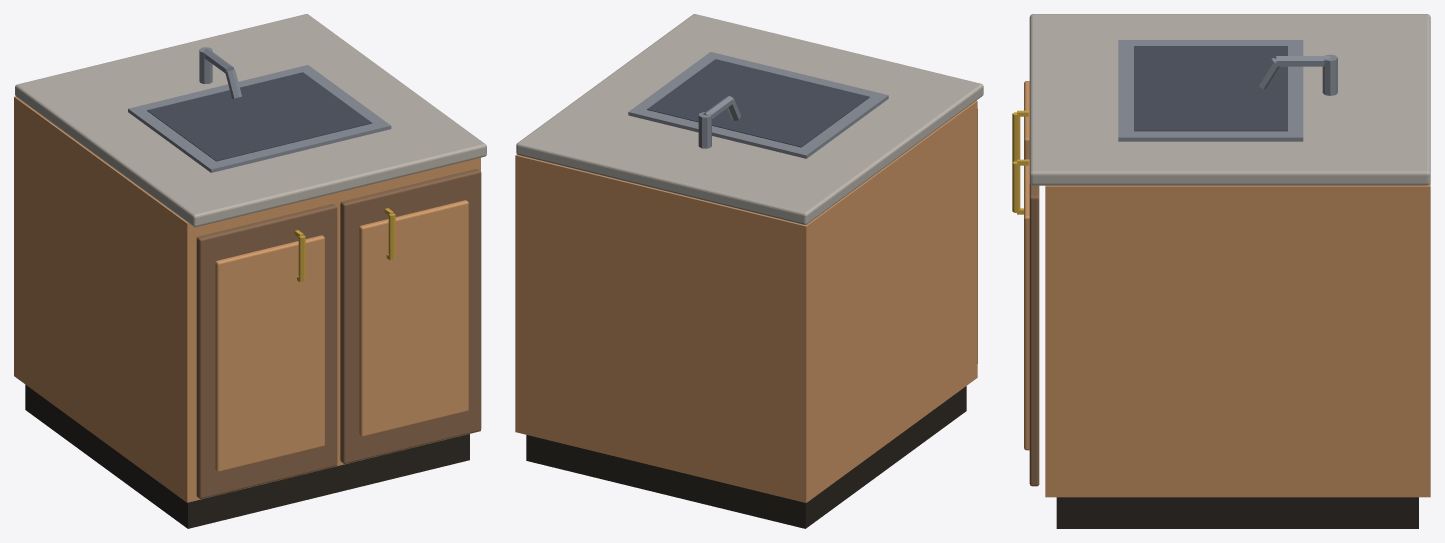
File: sink.glb
The picture shows the model from 3 angles, left to right: view 1: azimuth 30°, elevation 25°; view 2: azimuth 150°, elevation 25°; view 3: azimuth 270°, elevation 25°; orthographic projection. The views are drawn at different scales.
Visible parts, largest first — view 1: sink; view 2: sink; view 3: sink.
Part boxes in pixels (bbox=[...]): sink: bbox=[14, 14, 486, 528]; sink: bbox=[515, 14, 983, 528]; sink: bbox=[1012, 14, 1430, 528].
Size of the model in its own units: 0.98 by 1.13 by 1.08.
